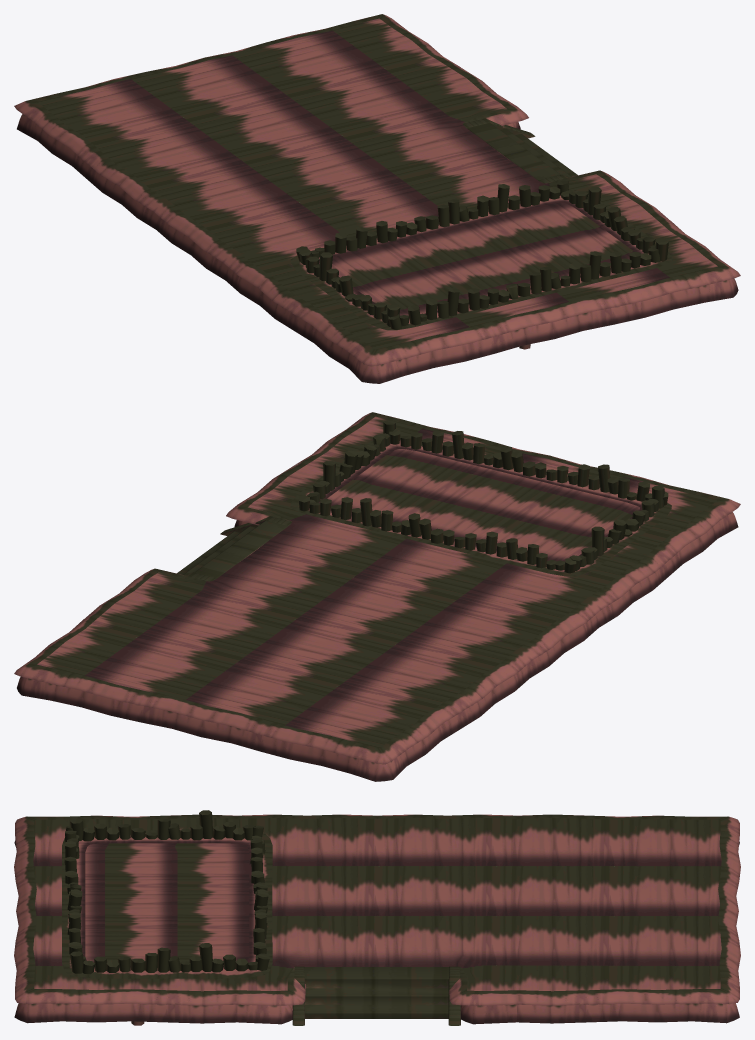
The model's file is 0163_T_ZhenYin_HuaTan04.glb.
The picture shows the model from 3 angles, top to bottom: view 1: azimuth 30°, elevation 25°; view 2: azimuth 150°, elevation 25°; view 3: azimuth 270°, elevation 25°; orthographic projection.
Bounding box in the file's own units: 1.36 × 0.267 × 2.2.
1 material, 1 textured.
